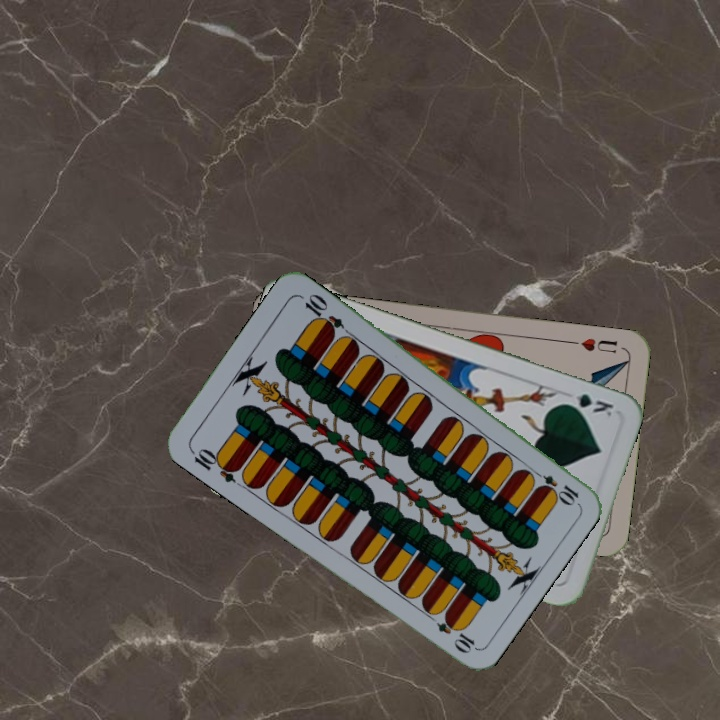E10: (186, 444, 243, 485), (527, 465, 582, 507)
GK: (558, 389, 616, 419)
HU: (566, 334, 620, 356)
